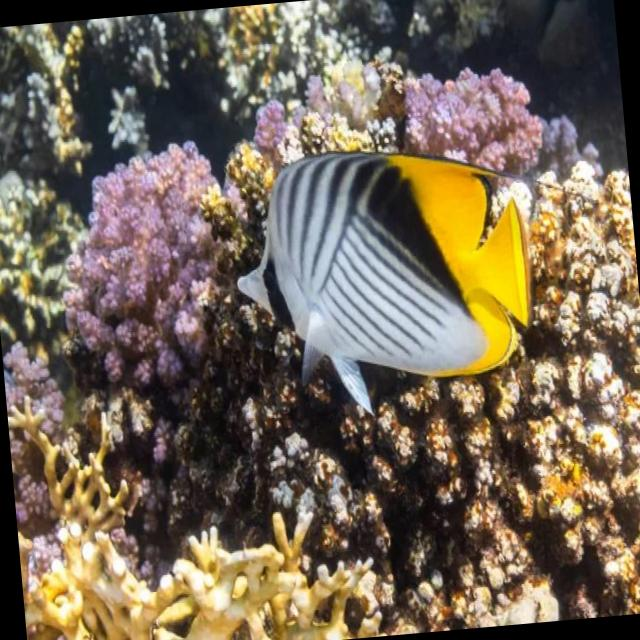ButterflyFish: (232, 138, 540, 424)
